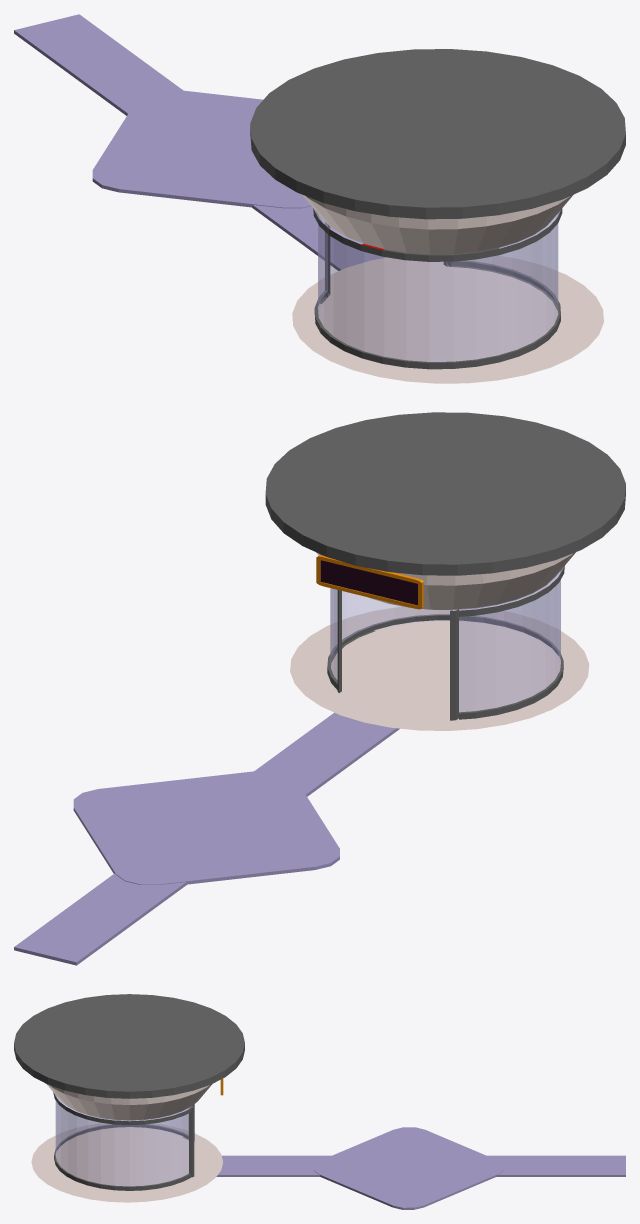
Rendered from stagedoor.fbx.
3 views of the same model, one above another, from view 1: azimuth 30°, elevation 25°; view 2: azimuth 150°, elevation 25°; view 3: azimuth 270°, elevation 25° (orthographic). The views are drawn at different scales.
Parts seen in each view (by area): view 1: Cylinder, Plane.051; view 2: Cylinder, Plane.051, Cube; view 3: Cylinder, Plane.051.
Boxes of the visible parts, box(x1,y1,x2,y2) form: Cylinder: box(250, 49, 625, 369); Plane.051: box(14, 14, 603, 383); Cylinder: box(265, 412, 625, 720); Plane.051: box(14, 606, 589, 965); Cube: box(316, 555, 423, 609); Cylinder: box(14, 994, 244, 1190); Plane.051: box(31, 1123, 625, 1209).
Bounding box in the file's own units: 38.87 × 22.39 × 103.
4 materials, 3 textured.
